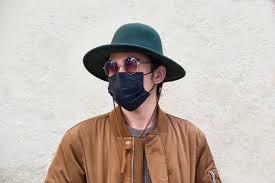cap: (77, 17, 188, 87)
mask: (105, 70, 152, 113)
sunglasses: (104, 58, 142, 77)
